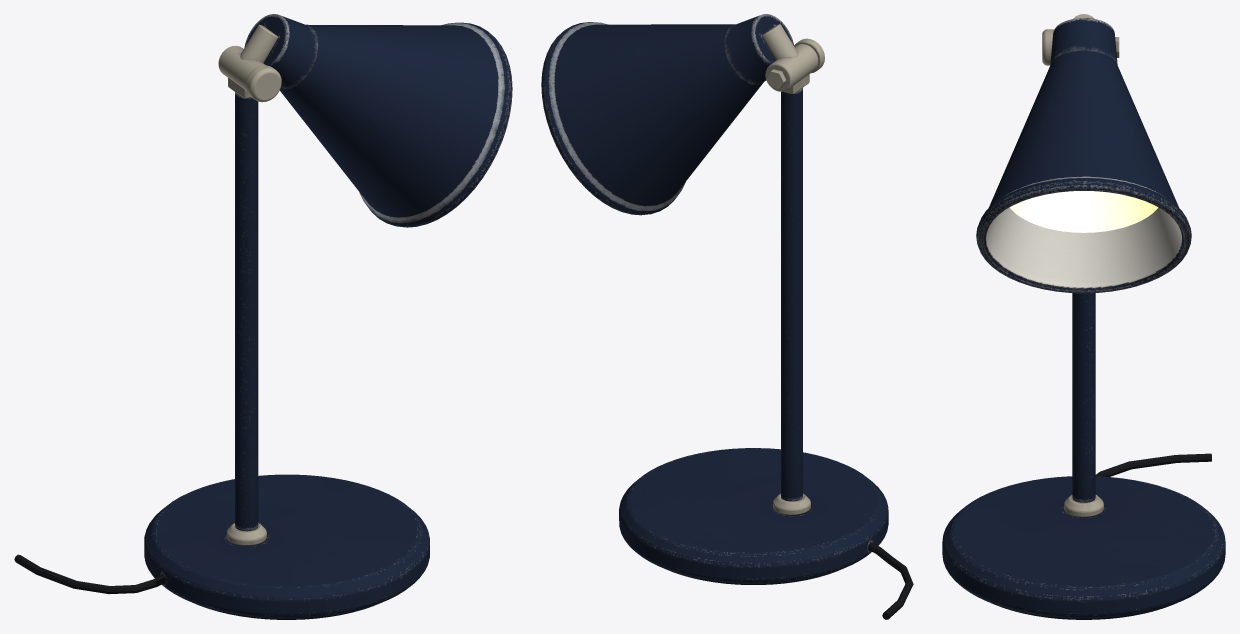
3 views of the same model, side by side, from view 1: azimuth 30°, elevation 25°; view 2: azimuth 150°, elevation 25°; view 3: azimuth 270°, elevation 25° (orthographic). The views are drawn at different scales.
Parts seen in each view (by area): view 1: studio-desk-lamp; view 2: studio-desk-lamp; view 3: studio-desk-lamp.
Boxes of the visible parts, x1,y1,x2,y2 form: studio-desk-lamp: (14,14,512,619); studio-desk-lamp: (541,14,913,619); studio-desk-lamp: (942,14,1225,619).
Bounding box in the file's own units: 0.3057 × 0.391 × 0.184.
Materials: 2 (1 with a texture image).
